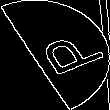P_SW: (15, 27, 95, 83)
